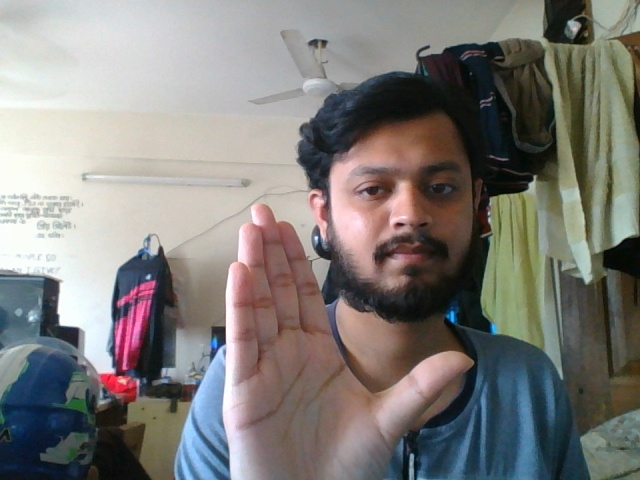a: (218, 195, 484, 480)
